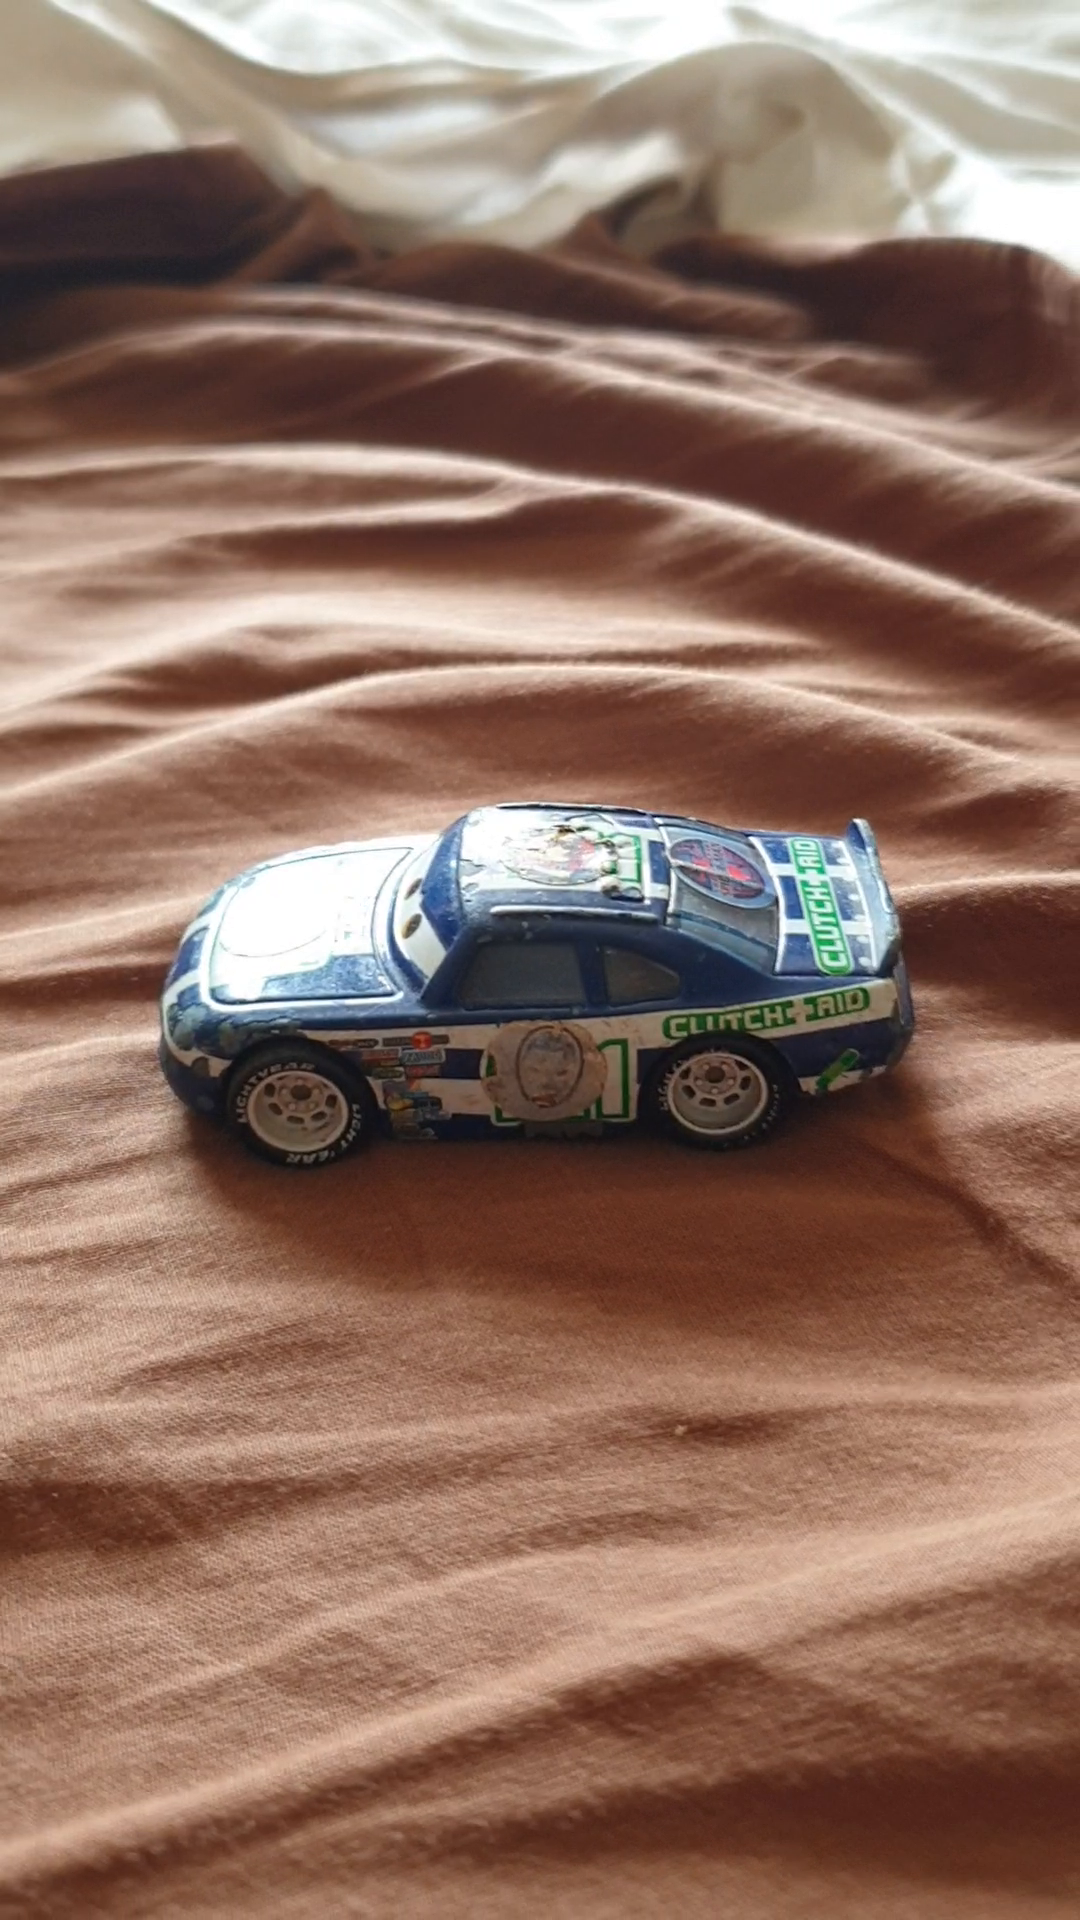cars: (156, 808, 909, 1184)
